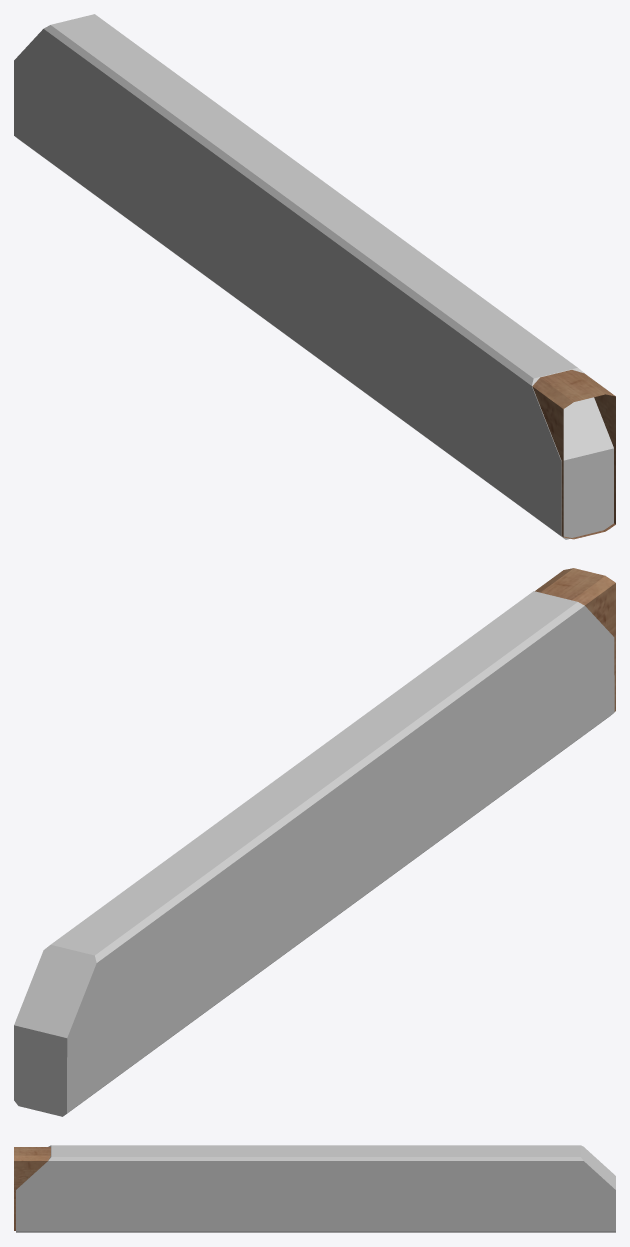
The model's file is SM_HBJ_BeamG.fbx.
The picture shows the model from 3 angles, top to bottom: view 1: azimuth 30°, elevation 25°; view 2: azimuth 150°, elevation 25°; view 3: azimuth 270°, elevation 25°; orthographic projection. The views are drawn at different scales.
Parts seen in each view (by area): view 1: SM_HBJ_BeamG_ConvexHulls, SM_HBJ_BeamG; view 2: SM_HBJ_BeamG_ConvexHulls, SM_HBJ_BeamG; view 3: SM_HBJ_BeamG_ConvexHulls, SM_HBJ_BeamG.
Part boxes in pixels (left/top/right/bottom): SM_HBJ_BeamG_ConvexHulls: left=14, top=14, right=613, bottom=539; SM_HBJ_BeamG: left=532, top=370, right=615, bottom=539; SM_HBJ_BeamG_ConvexHulls: left=14, top=591, right=614, bottom=1116; SM_HBJ_BeamG: left=535, top=568, right=615, bottom=711; SM_HBJ_BeamG_ConvexHulls: left=16, top=1145, right=615, bottom=1232; SM_HBJ_BeamG: left=14, top=1147, right=50, bottom=1230.
Bounding box in the file's own units: 17 × 304 × 42.1.
Materials: 2 (1 with a texture image).
